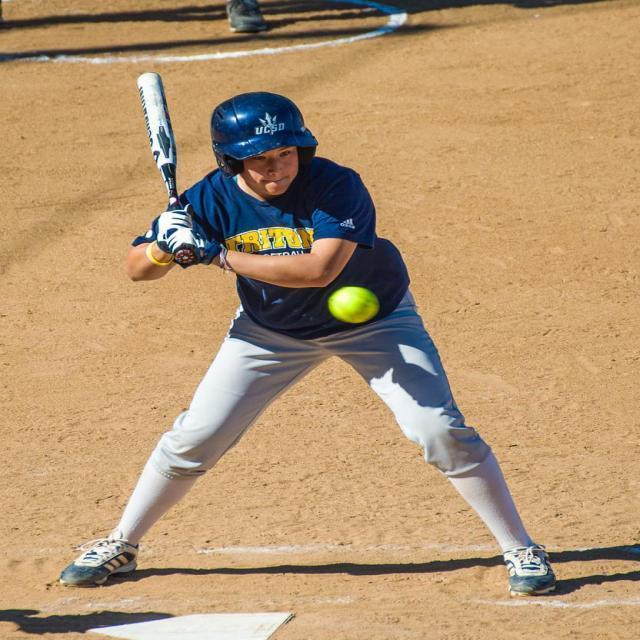baseball bat: (130, 70, 183, 210)
sports ball: (330, 285, 380, 323)
